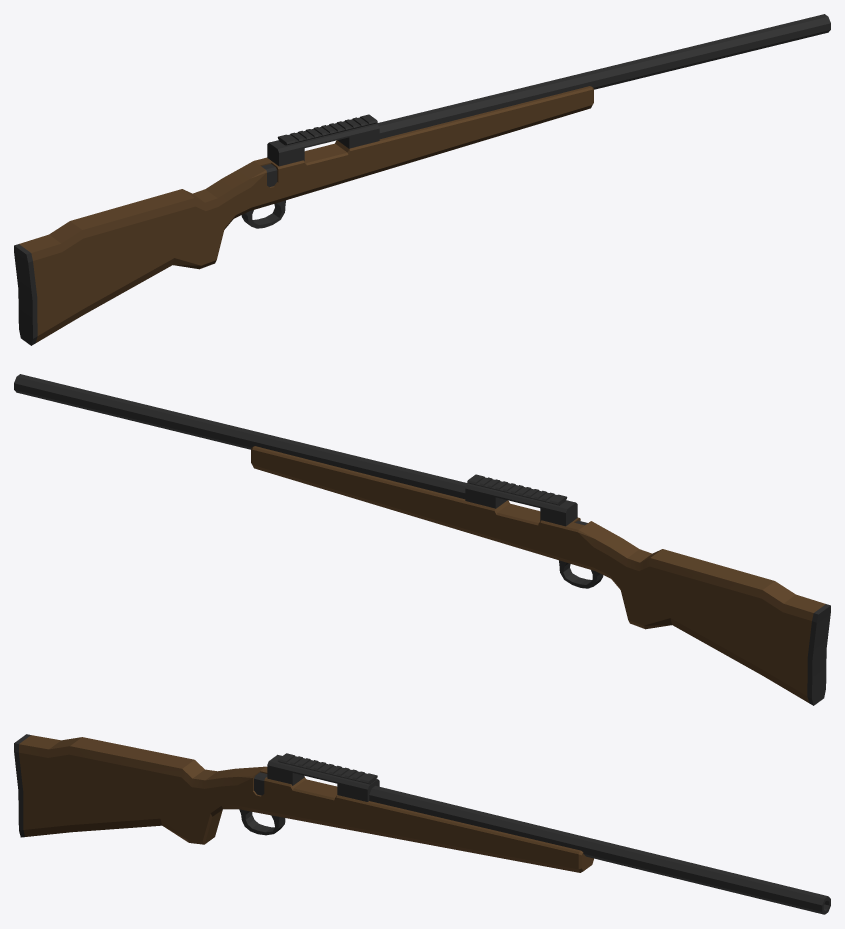
The model's file is SniperRifle3_01.fbx.
The picture shows the model from 3 angles, top to bottom: view 1: azimuth 30°, elevation 25°; view 2: azimuth 150°, elevation 25°; view 3: azimuth 330°, elevation 25°; orthographic projection.
Visible parts, largest first — view 1: SniperRifle3_01; view 2: SniperRifle3_01; view 3: SniperRifle3_01.
Boxes of the visible parts, box(x1,y1,x2,y2) form: SniperRifle3_01: box(14, 14, 830, 345); SniperRifle3_01: box(14, 374, 830, 705); SniperRifle3_01: box(14, 734, 830, 914).
Size of the model in its own units: 1.22 by 0.2029 by 0.0371.
